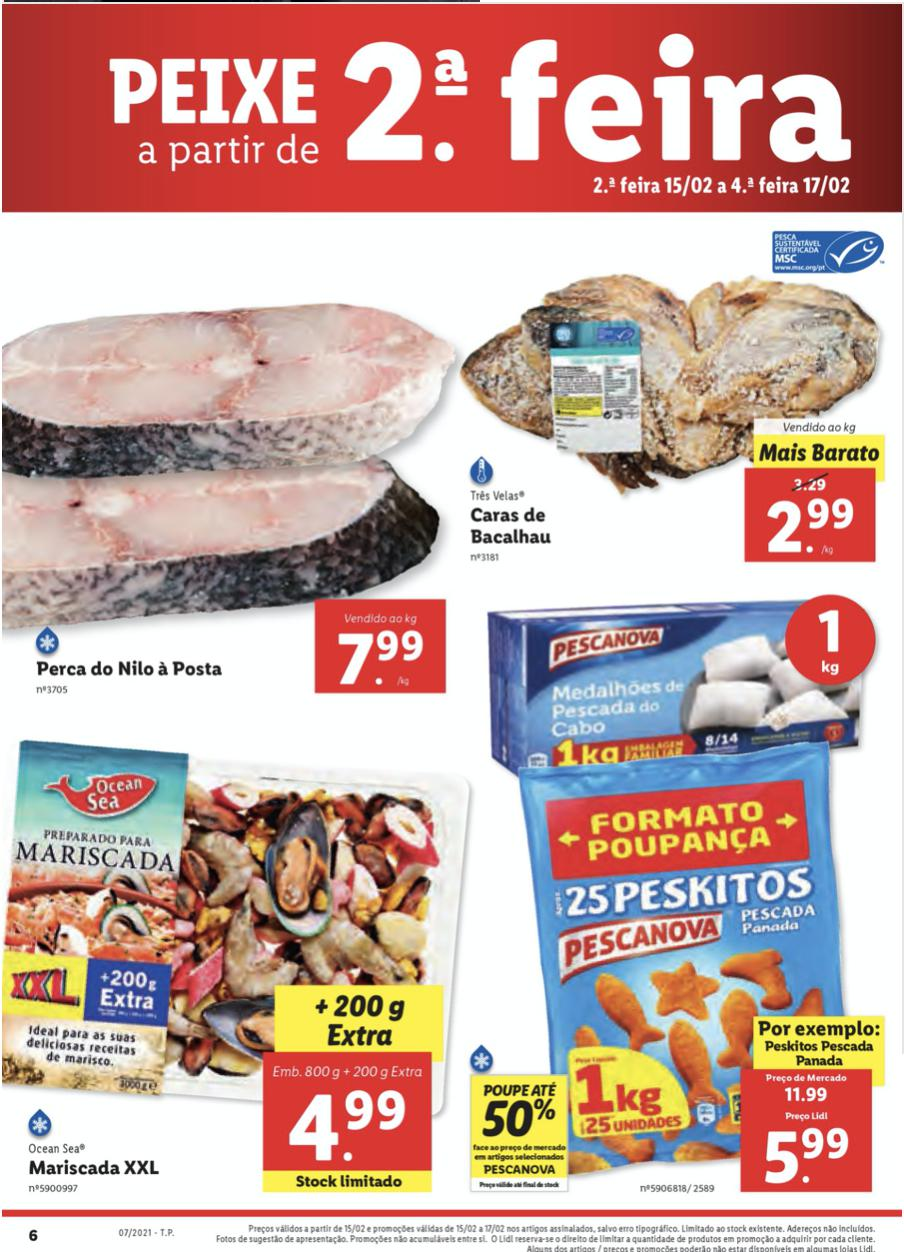name: (28, 656, 234, 684), (466, 505, 559, 548), (23, 1155, 166, 1180)
price: (261, 1052, 434, 1172), (316, 597, 445, 694), (744, 1106, 878, 1191), (744, 492, 877, 564)
product: (2, 719, 466, 1219), (3, 273, 455, 705), (480, 769, 895, 1211), (455, 223, 894, 581)
promotion: (470, 1073, 567, 1181), (278, 986, 437, 1050)
